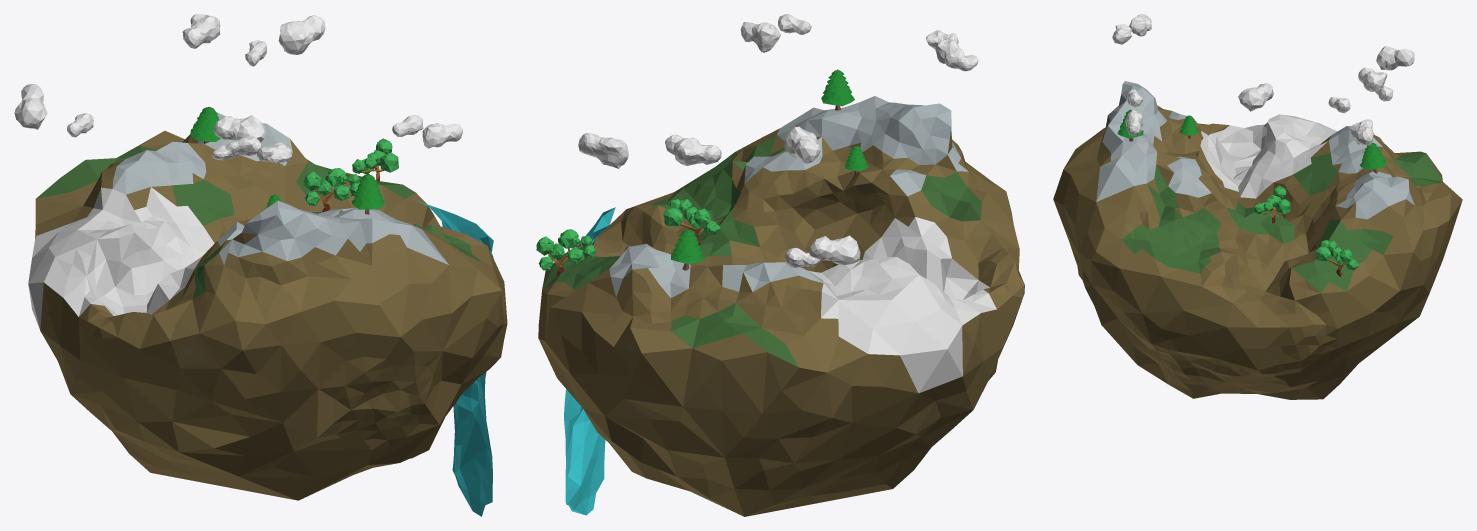
File: lowpoly_island.glb
The picture shows the model from 3 angles, left to right: view 1: azimuth 30°, elevation 25°; view 2: azimuth 150°, elevation 25°; view 3: azimuth 270°, elevation 25°; orthographic projection. The views are drawn at different scales.
Parts seen in each view (by area): view 1: Icosphere, Icosphere.011, Plane, Cube, Cube.001, Icosphere.002, Icosphere.001; view 2: Icosphere, Icosphere.011, Plane, Cube.001, Cube, Icosphere.001, Icosphere.002; view 3: Icosphere, Icosphere.011, Cube.001, Cube, Icosphere.001.
Boxes of the visible parts, x1,y1,x2,y2 form: Icosphere: (28,112,507,500); Icosphere.011: (14,14,462,163); Plane: (416,200,493,516); Cube: (303,168,359,211); Cube.001: (352,138,398,180); Icosphere.002: (351,173,384,214); Icosphere.001: (190,107,221,143); Icosphere: (538,96,1024,516); Icosphere.011: (578,14,978,268); Plane: (564,207,615,515); Cube.001: (536,229,595,275); Cube: (663,199,720,245); Icosphere.001: (671,229,704,270); Icosphere.002: (821,69,854,110); Icosphere: (1053,81,1462,399); Icosphere.011: (1112,14,1414,145); Cube.001: (1315,240,1359,276); Cube: (1254,185,1290,223); Icosphere.001: (1359,143,1386,173).
Bounding box in the file's own units: 18.38 × 20.81 × 19.98.
